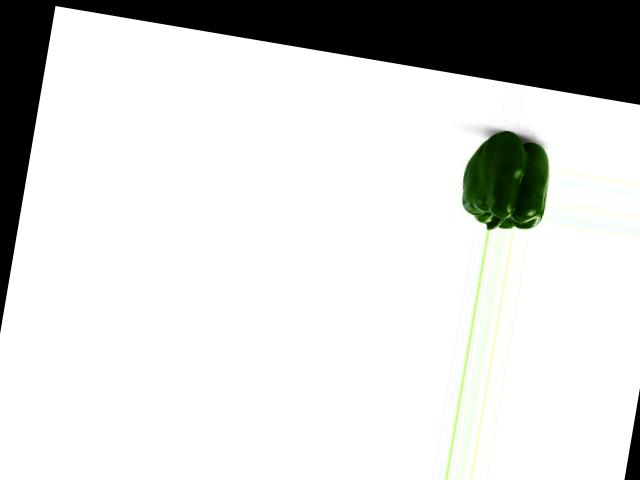bell_pepper: (454, 128, 557, 236)
